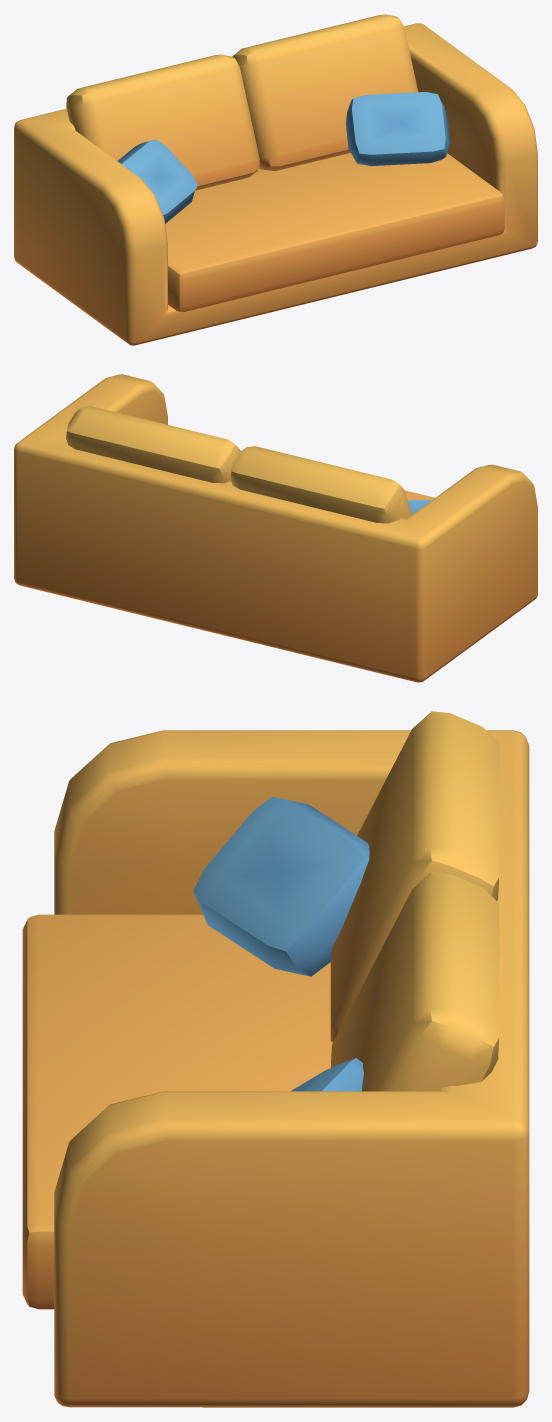
Rendered from couch.glb.
The picture shows the model from 3 angles, top to bottom: view 1: azimuth 30°, elevation 25°; view 2: azimuth 150°, elevation 25°; view 3: azimuth 270°, elevation 25°; orthographic projection. The views are drawn at different scales.
Visible parts, largest first — view 1: couch_pillows; view 2: couch_pillows; view 3: couch_pillows.
Part boxes in pixels (x1,y1,x2,y2): couch_pillows: (14,14,537,345); couch_pillows: (14,374,537,682); couch_pillows: (22,711,529,1407).
Bounding box in the file's own units: 3 × 1.22 × 1.6.
1 material, 1 textured.
